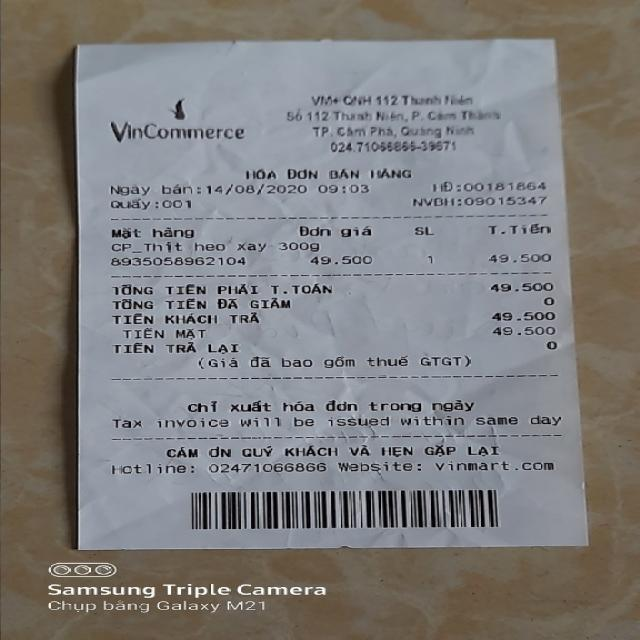Date: (205, 183, 310, 196)
Store_Name: (102, 119, 253, 145)
amount_number: (483, 280, 558, 294)
label_total: (111, 279, 336, 298)
